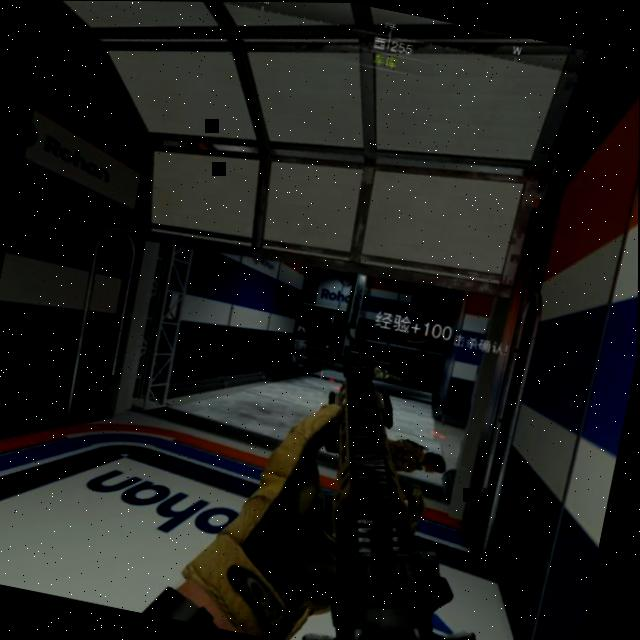MW2_body: (289, 324, 321, 375)
